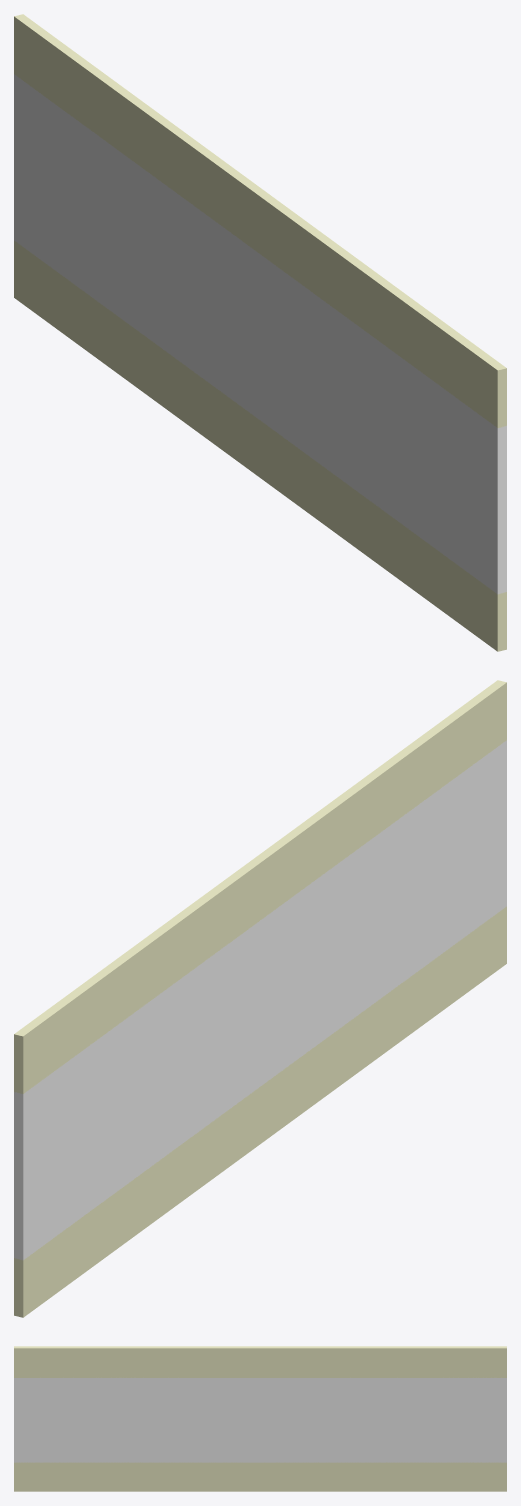
The model's file is ASKUL-GDH-CUPBOARD-BODYSET5_link_mesh.dae.
The picture shows the model from 3 angles, top to bottom: view 1: azimuth 30°, elevation 25°; view 2: azimuth 150°, elevation 25°; view 3: azimuth 270°, elevation 25°; orthographic projection. The views are drawn at different scales.
Parts seen in each view (by area): view 1: ASKUL-GDH-CUPBOARD-BODYSET5_link (×3); view 2: ASKUL-GDH-CUPBOARD-BODYSET5_link (×3); view 3: ASKUL-GDH-CUPBOARD-BODYSET5_link (×3).
Boxes of the visible parts, <box> form: ASKUL-GDH-CUPBOARD-BODYSET5_link (×3): <box>14,14,506,651</box>; ASKUL-GDH-CUPBOARD-BODYSET5_link (×3): <box>14,680,506,1317</box>; ASKUL-GDH-CUPBOARD-BODYSET5_link (×3): <box>14,1346,506,1491</box>.
Bounding box in the file's own units: 0.01 × 0.292 × 0.91.
